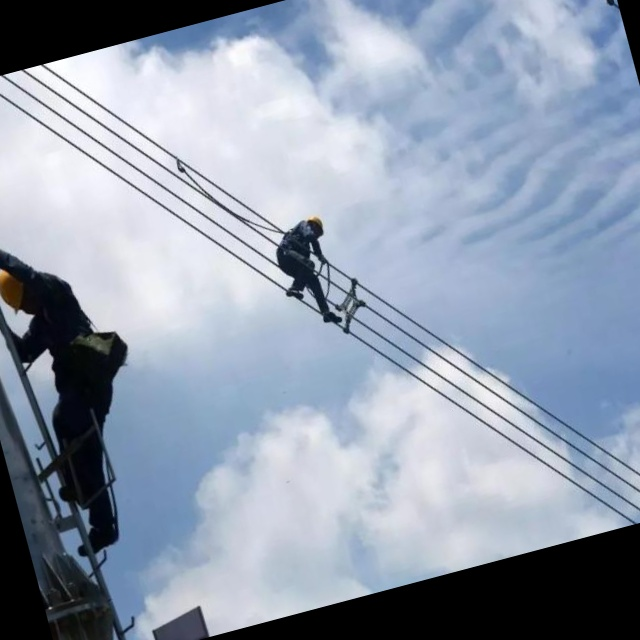Con_Casco: (0, 264, 34, 320), (305, 211, 328, 238)
